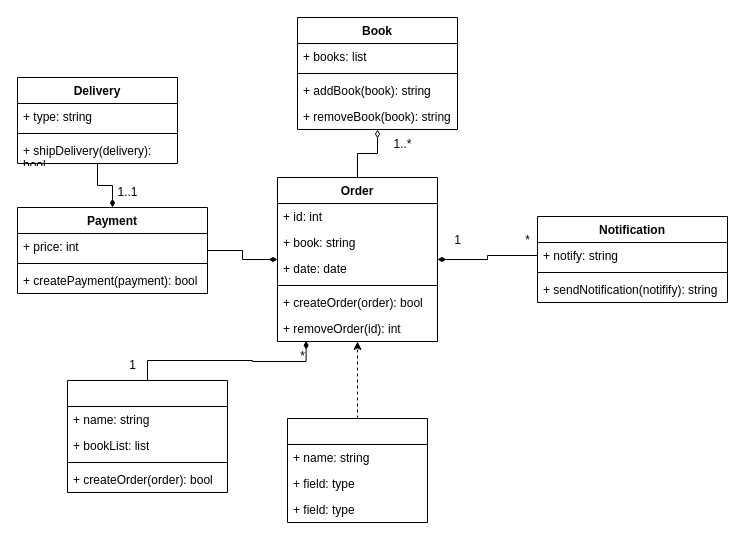
Image size: 745x543. Some labels were removed from this diagram. Each missing label, with the box of its shape:
IOrder: (286, 418, 428, 522)
User: (66, 380, 228, 492)
